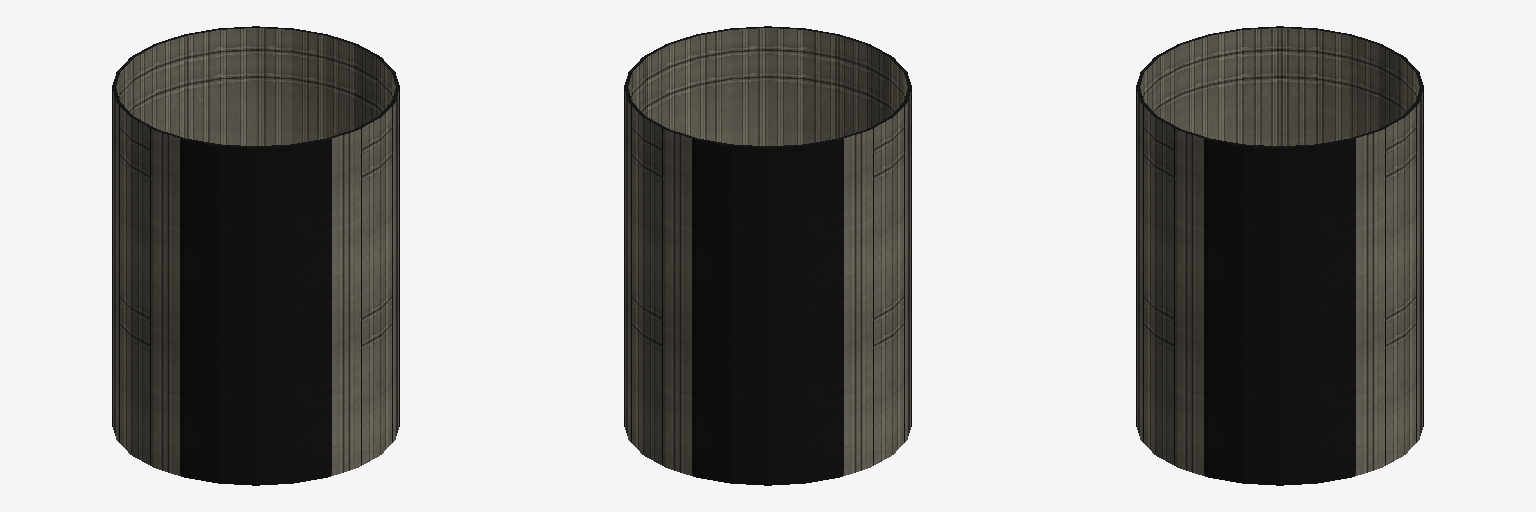
3 views of the same model, side by side, from view 1: azimuth 30°, elevation 25°; view 2: azimuth 150°, elevation 25°; view 3: azimuth 270°, elevation 25° (orthographic).
Parts seen in each view (by area): view 1: fairing1; view 2: fairing1; view 3: fairing1.
Boxes of the visible parts, box(x1,y1,x2,y2) form: fairing1: box(112, 26, 399, 485); fairing1: box(624, 26, 911, 485); fairing1: box(1136, 26, 1423, 485).
Bounding box in the file's own units: 1.88 × 2.42 × 1.88.
1 materials, 1 textured.